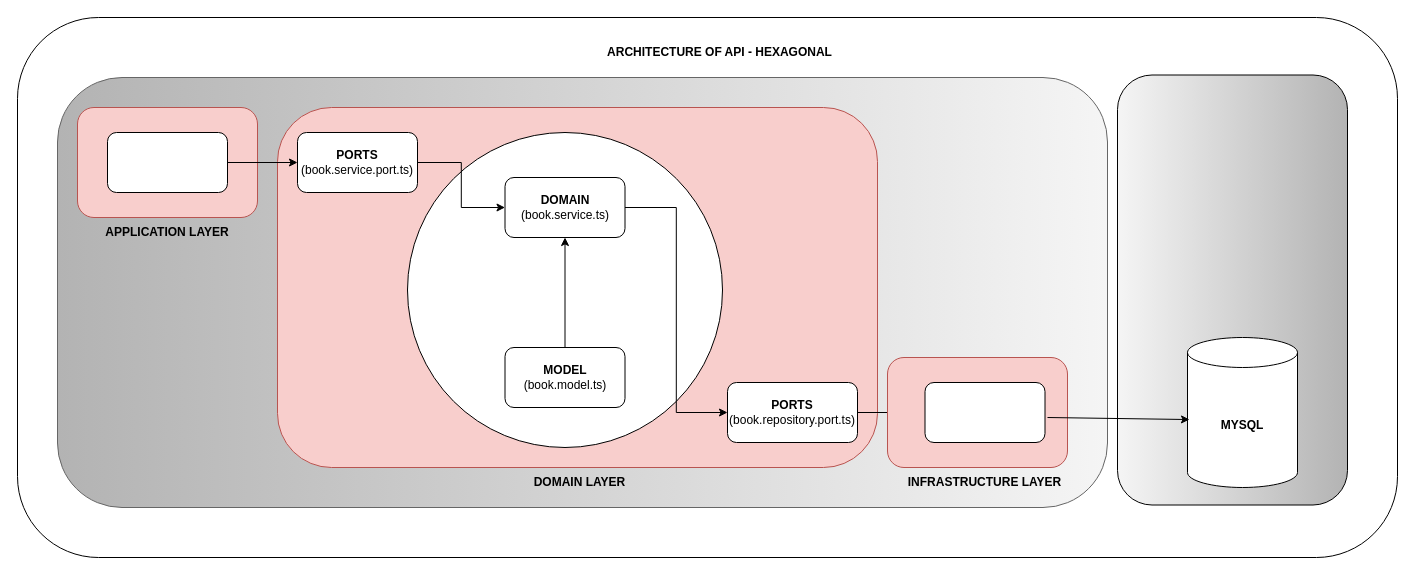
Some shapes in this 1415 by 575 pixel diagram are drawn without their labels. The centre of each missing label's shape, as x and y in pixels:
CONTROLLER (book.controller.ts): (167,162)
REPOSITORY (book.repository.ts): (984,412)
